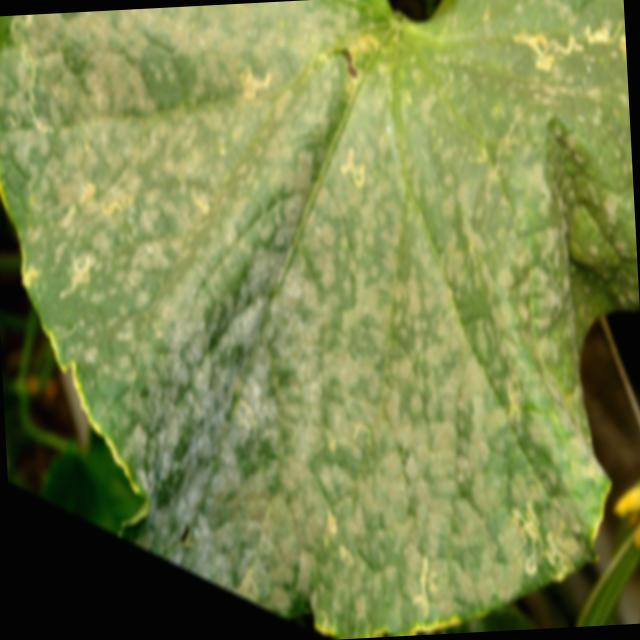Powdery_Mildew: (0, 0, 640, 640), (261, 233, 471, 640), (456, 0, 637, 273), (62, 54, 211, 346)
